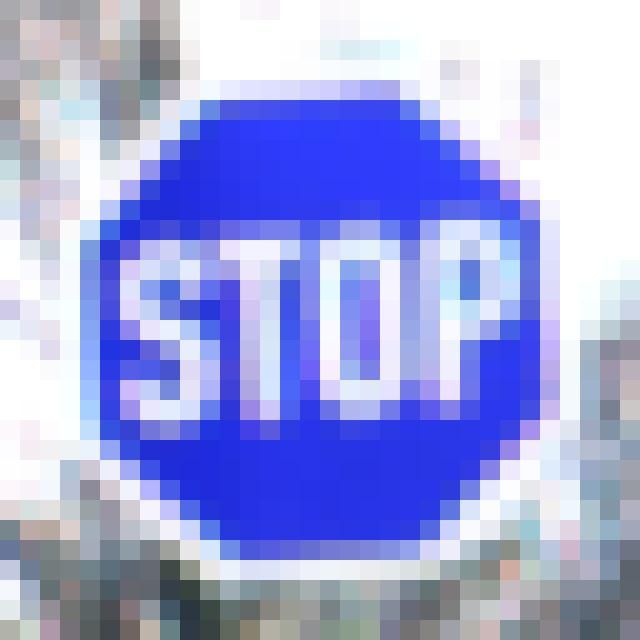STOP: (98, 100, 570, 578)
